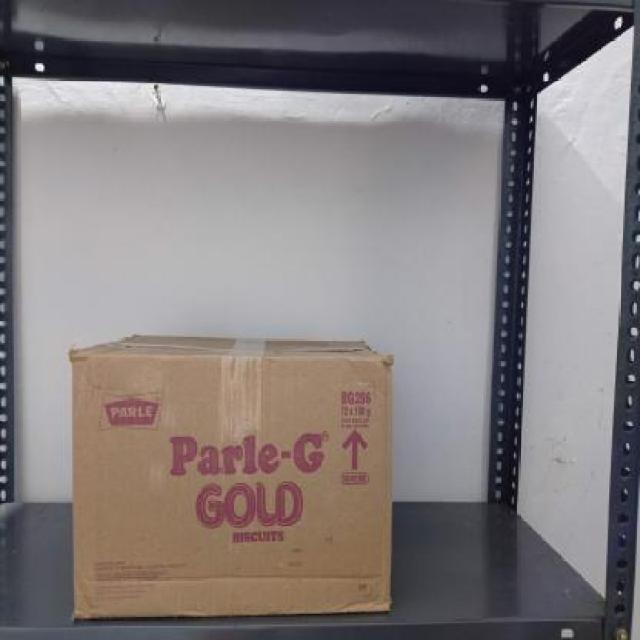box: (69, 349, 391, 614)
